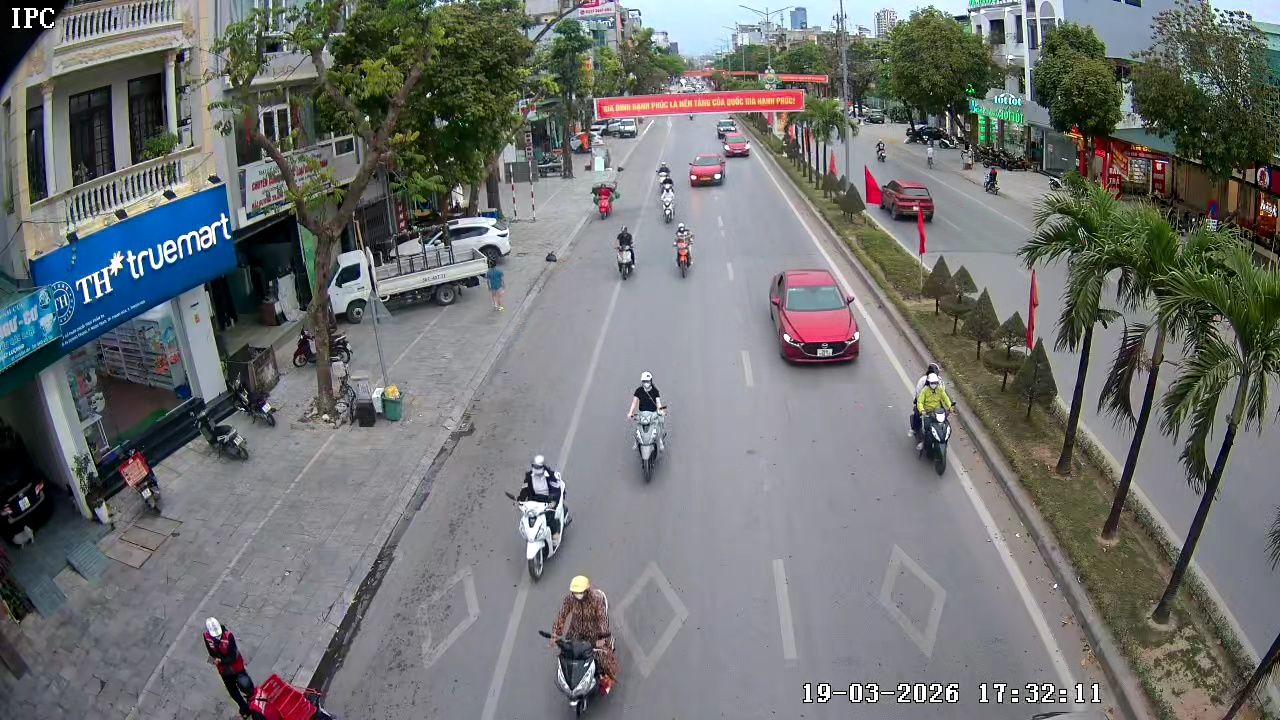car: (767, 267, 861, 366), (874, 178, 937, 225), (687, 149, 727, 187), (722, 131, 751, 160)
motorbike: (537, 575, 620, 719), (507, 452, 572, 582), (199, 616, 268, 719), (906, 361, 957, 477), (625, 369, 673, 484), (671, 218, 697, 279), (591, 170, 620, 220), (614, 226, 638, 281), (656, 163, 675, 208), (658, 179, 674, 224)
pedestrian: (484, 251, 507, 316)
